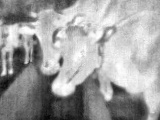eye: (76, 46, 89, 61)
